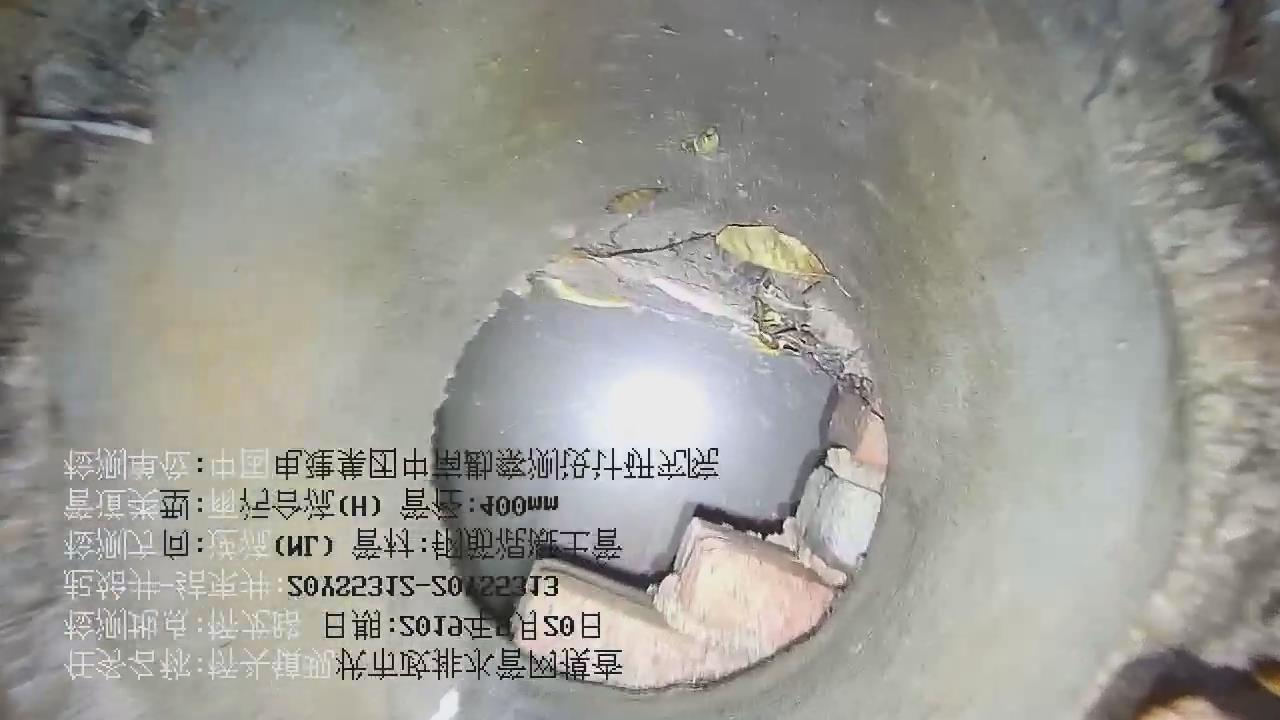CQBG: (510, 415, 887, 690)
